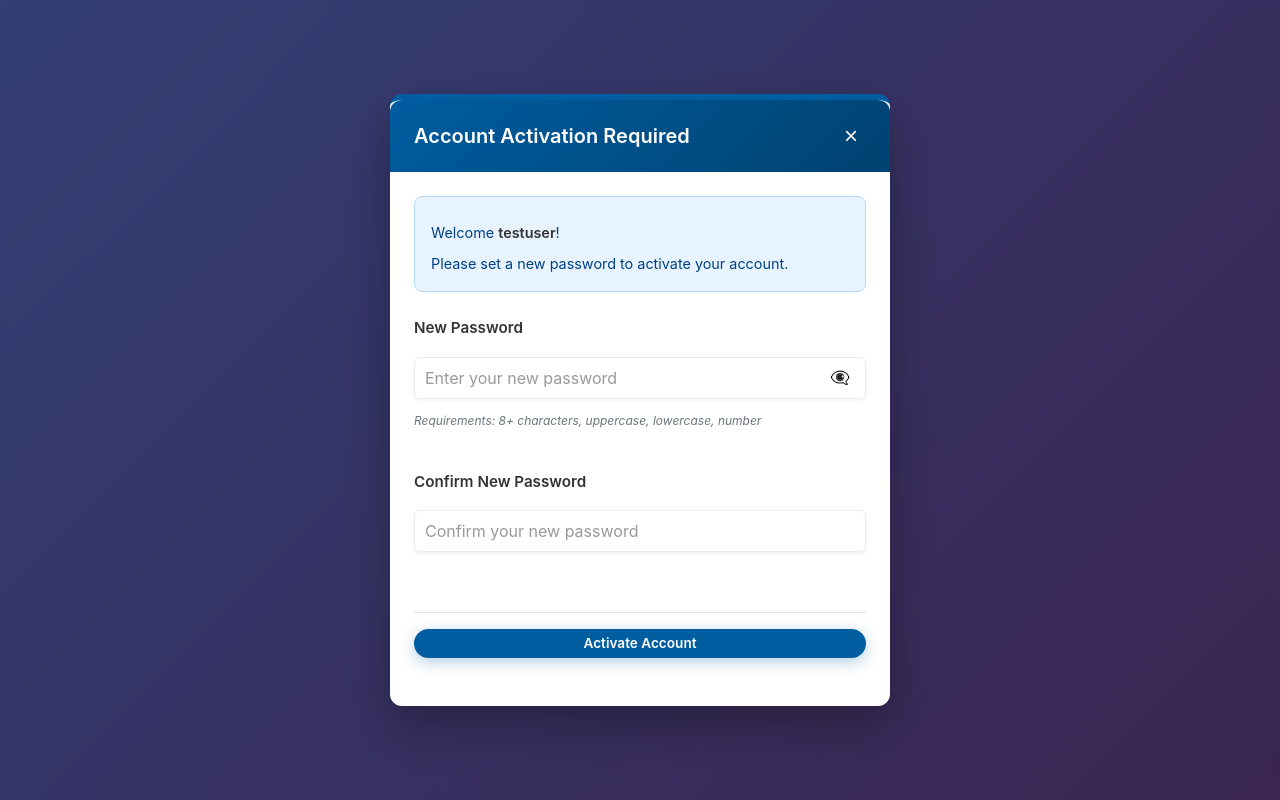
Scenario: PasswordChangeModal Component › Form Validation › validates empty newPassword field (lines 56-60)
The width and height of the screenshot is (1280, 800).
Click the button "Activate Account" at x=640, y=644, box 414,629 -> 866,658
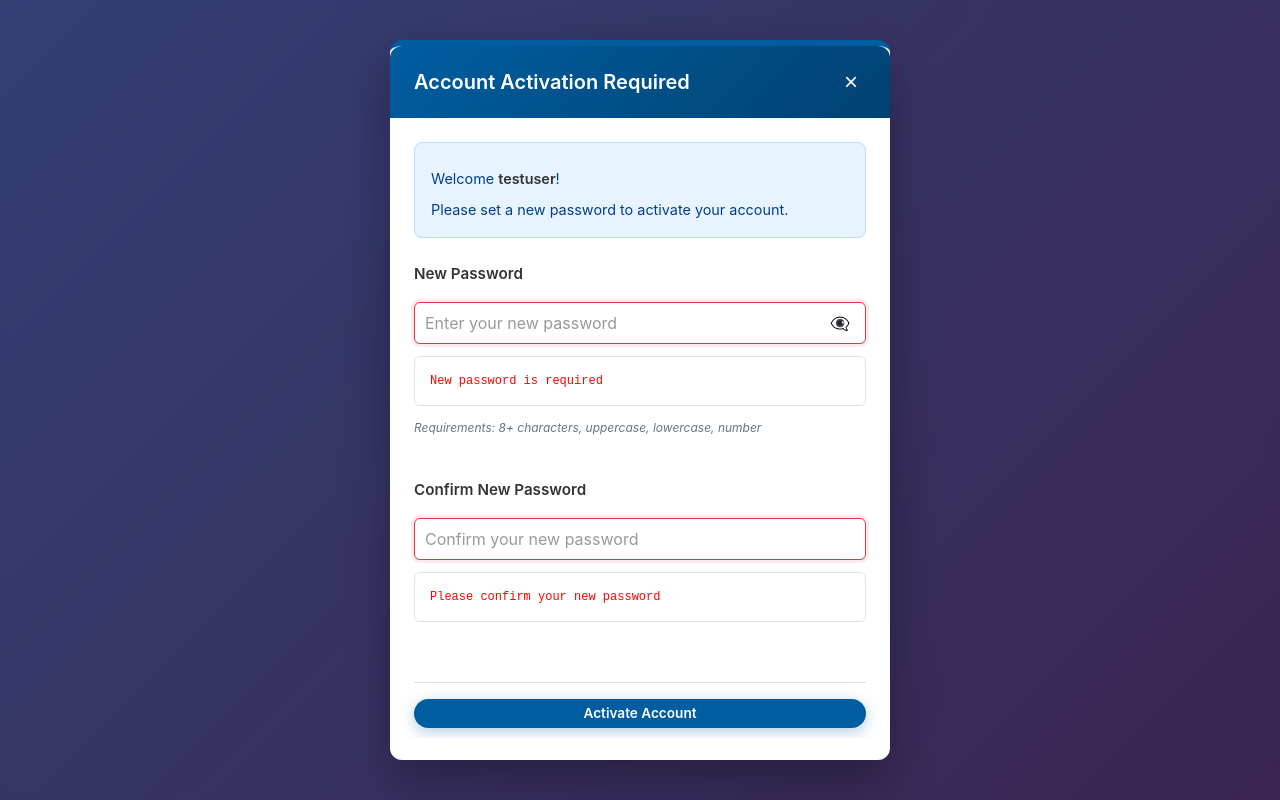
Result: the text "New password is required" is shown at 414,356 -> 866,406
